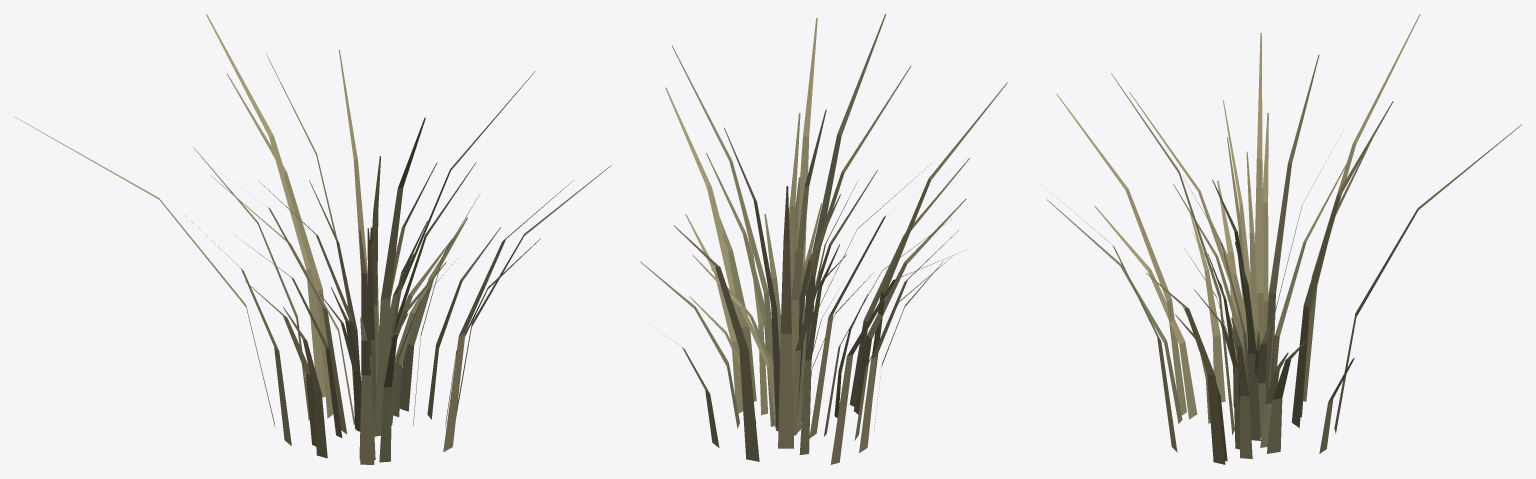
File: ZR_DryWeeds.fbx
The picture shows the model from 3 angles, left to right: view 1: azimuth 30°, elevation 25°; view 2: azimuth 150°, elevation 25°; view 3: azimuth 270°, elevation 25°; orthographic projection. The views are drawn at different scales.
Parts seen in each view (by area): view 1: ZR_DryWeeds; view 2: ZR_DryWeeds; view 3: ZR_DryWeeds.
Boxes of the visible parts, x1,y1,x2,y2 form: ZR_DryWeeds: (14,14,611,464); ZR_DryWeeds: (640,14,1007,464); ZR_DryWeeds: (1036,14,1521,464).
Size of the model in its own units: 0.7519 by 0.5874 by 0.7386.
